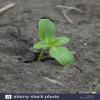Soyabean leaf: (48, 46, 75, 68), (36, 16, 57, 42), (48, 36, 70, 47)
